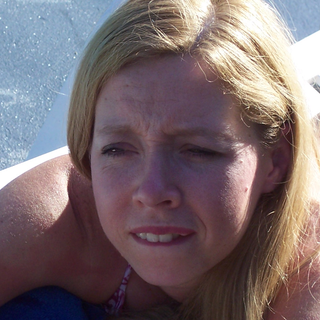eye: (99, 140, 142, 163)
